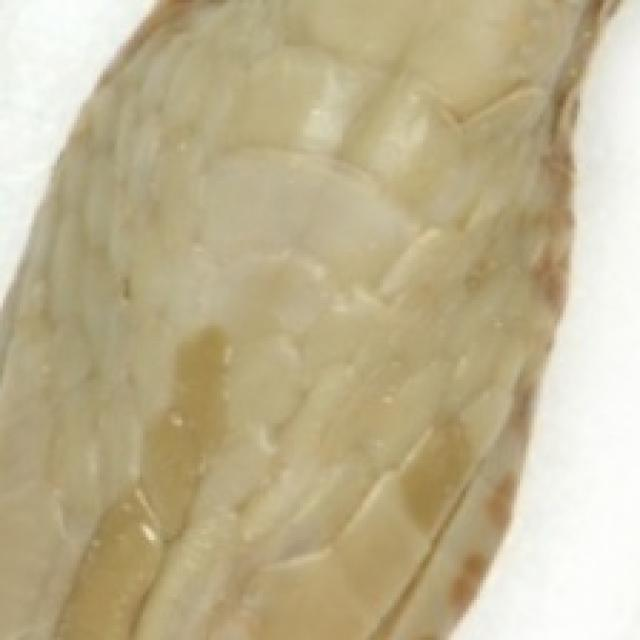mullers wolf snake: (451, 0, 637, 637), (0, 0, 151, 297)
